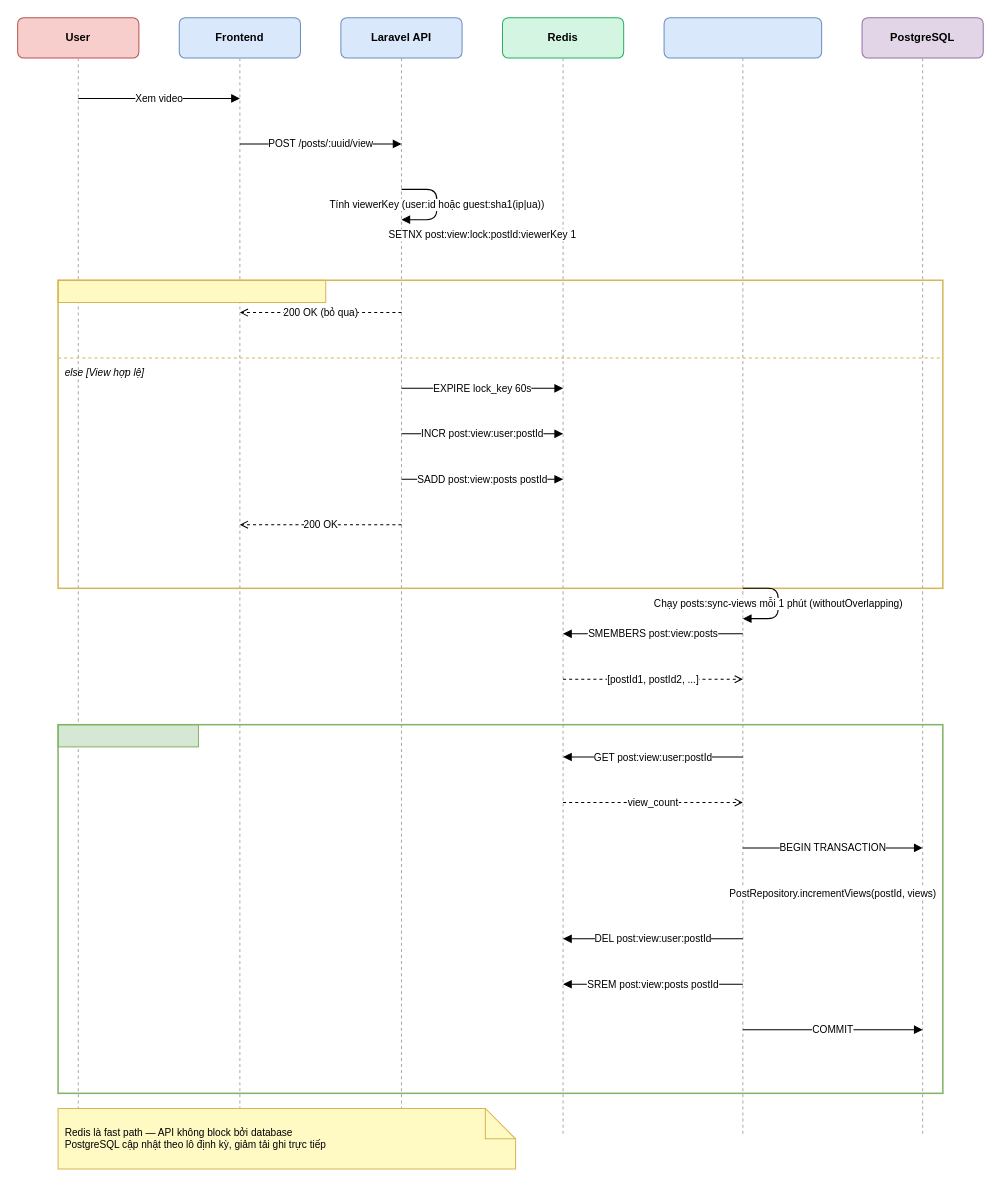
This 1001x1187 diagram has some shape labels left out. Each missing label, with the box of its shape:
alt [Lock tồn tại — chống spam 60s]: (57, 279, 326, 302)
Laravel Scheduler: (663, 17, 822, 58)
loop [Mỗi postId]: (57, 724, 198, 747)
